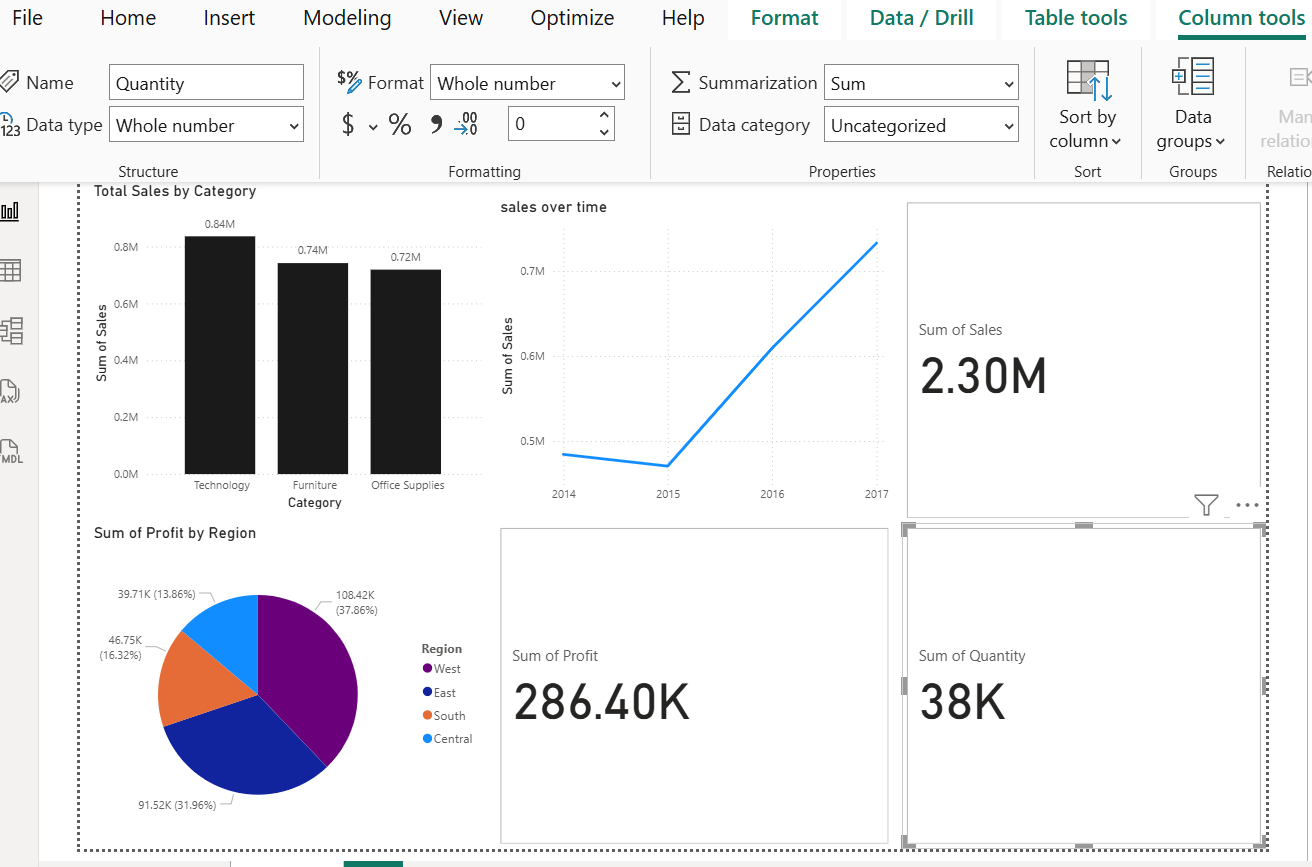

What the dashboard file says about the page in this screenshot:
{"tool":"powerbi","page":{"name":"Page 1","canvas":[1280,720],"ordinal":0},"visuals":[{"type":"clusteredColumnChart","title":"Total Sales by Category","fields":{"Category":["clean_sales_data.Category"],"Y":["Sum(clean_sales_data.Sales)"]},"box":[9.4,0,429,359.1],"z":0},{"type":"pieChart","fields":{"Category":["clean_sales_data.Region"],"Y":["Sum(clean_sales_data.Profit)"]},"box":[9,369,429,351],"z":1},{"type":"lineChart","title":"sales over time","fields":{"Category":["clean_sales_data.Order Date.Variation.Date Hierarchy.Year","clean_sales_data.Order Date.Variation.Date Hierarchy.Quarter","clean_sales_data.Order Date.Variation.Date Hierarchy.Month","clean_sales_data.Order Date.Variation.Date Hierarchy.Day"],"Y":["Sum(clean_sales_data.Sales)"]},"box":[448.5,17.8,429.1,351.4],"z":4},{"type":"cardVisual","fields":{"Data":["Sum(clean_sales_data.Sales)"]},"box":[888,18,392,351],"z":5},{"type":"cardVisual","fields":{"Data":["Sum(clean_sales_data.Profit)"]},"box":[449,369,429,351],"z":6},{"type":"cardVisual","fields":{"Data":["Sum(clean_sales_data.Quantity)"]},"box":[888,369,392,351],"z":7}]}

Visuals, with their boxes on the page's 1280x720 design canvas (x1, y1, x2, y2). These are canvas units, not pixel positions in the 1312x867 screenshot, which may show the page scaled, cropped or inside an application window:
"Total Sales by Category" clusteredColumnChart: crop(9, 0, 438, 359)
pieChart - clean_sales_data.Region x Sum(clean_sales_data.Profit): crop(9, 369, 438, 720)
"sales over time" lineChart: crop(448, 18, 878, 369)
cardVisual - Sum(clean_sales_data.Sales): crop(888, 18, 1280, 369)
cardVisual - Sum(clean_sales_data.Profit): crop(449, 369, 878, 720)
cardVisual - Sum(clean_sales_data.Quantity): crop(888, 369, 1280, 720)
